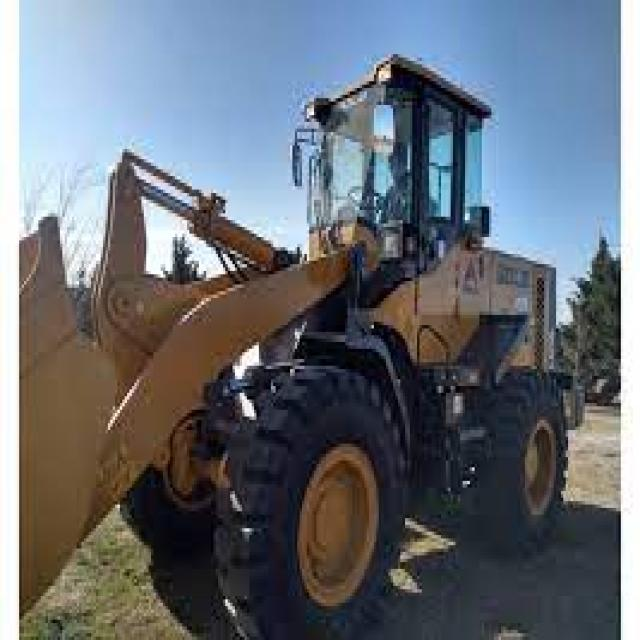buldozerpayloadergrader: (21, 53, 569, 640)
